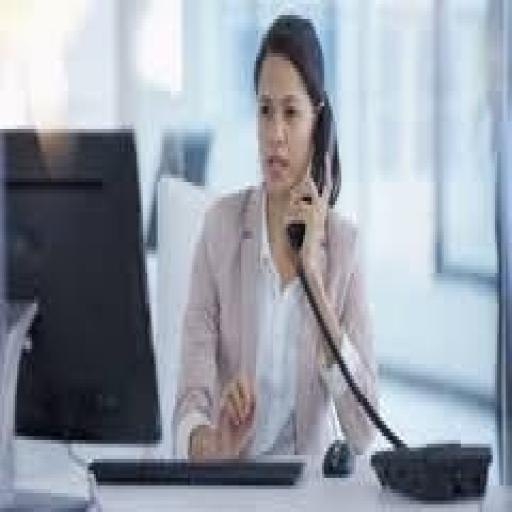calling: (168, 12, 380, 466)
